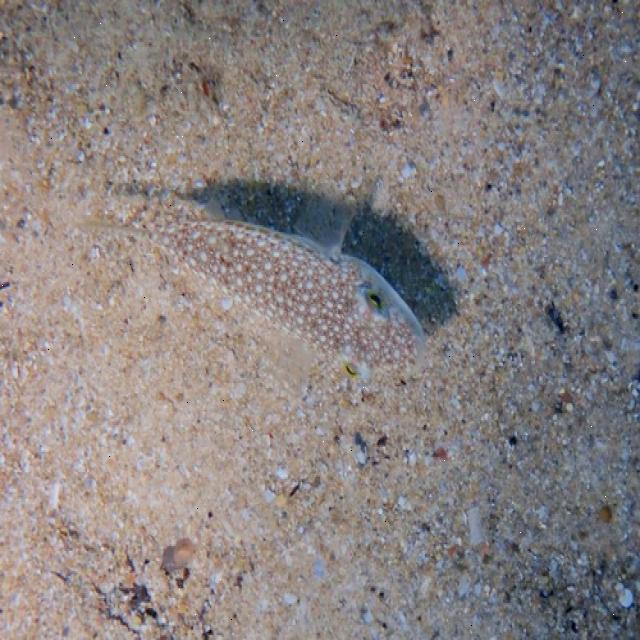Balik: (148, 221, 424, 379)
